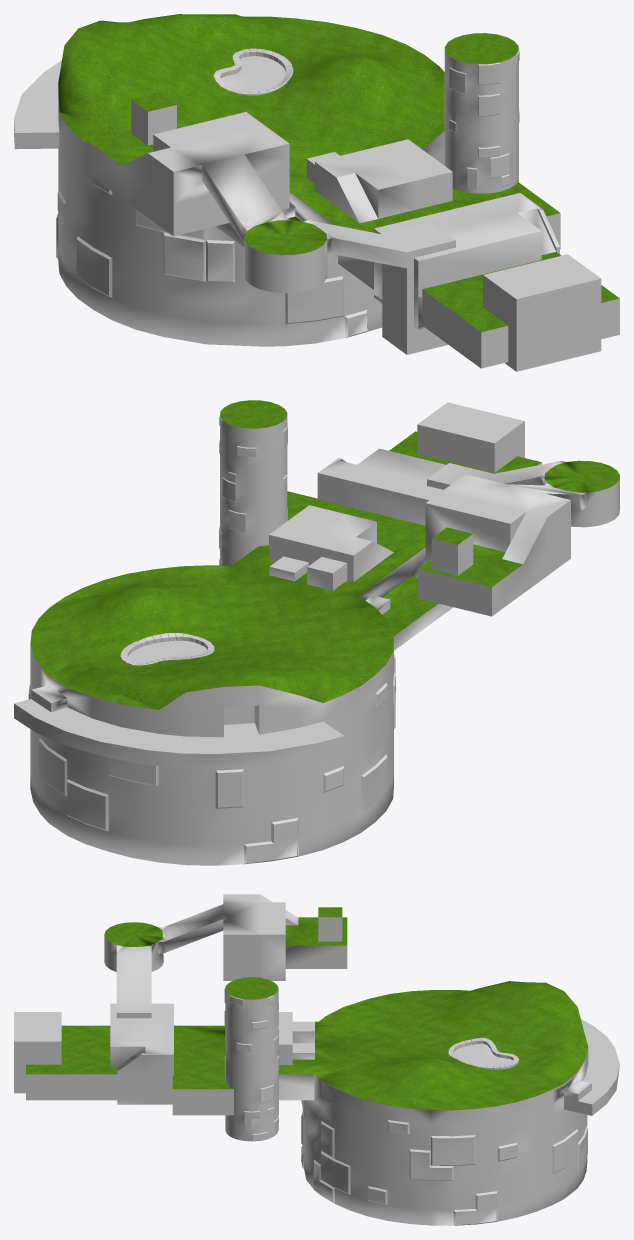
Rendered from World 1_01.fbx.
3 views of the same model, one above another, from view 1: azimuth 30°, elevation 25°; view 2: azimuth 150°, elevation 25°; view 3: azimuth 270°, elevation 25° (orthographic). The views are drawn at different scales.
Visible parts, largest first — view 1: Cube__3_; view 2: Cube__3_; view 3: Cube__3_.
Part boxes in pixels (x1,y1,x2,y2): Cube__3_: [14, 14, 619, 371]; Cube__3_: [14, 400, 619, 865]; Cube__3_: [14, 894, 619, 1225].
Bounding box in the file's own units: 10723 × 7205 × 19015.
